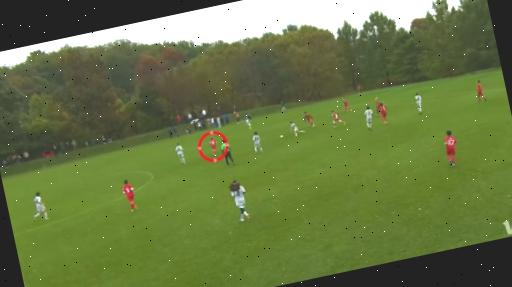highlight_overlay: (195, 126, 233, 166)
